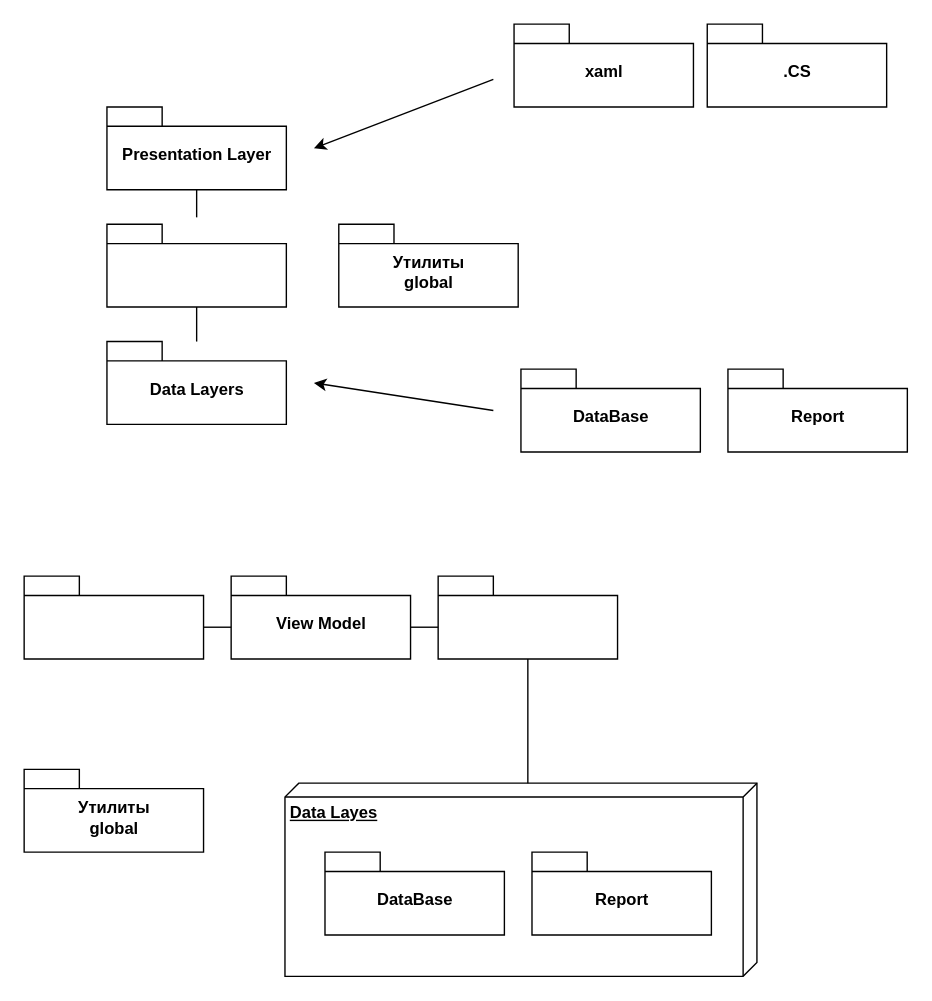
Some shapes in this 932 by 1001 pixel diagram are drawn without their labels. The shapes that lost their labels are listed below. From the top down, each one's centre as x and y in pixels, then its label:
At [196,265]: "Business Layer".
At [113,617]: "View".
At [527,617]: "Model".
